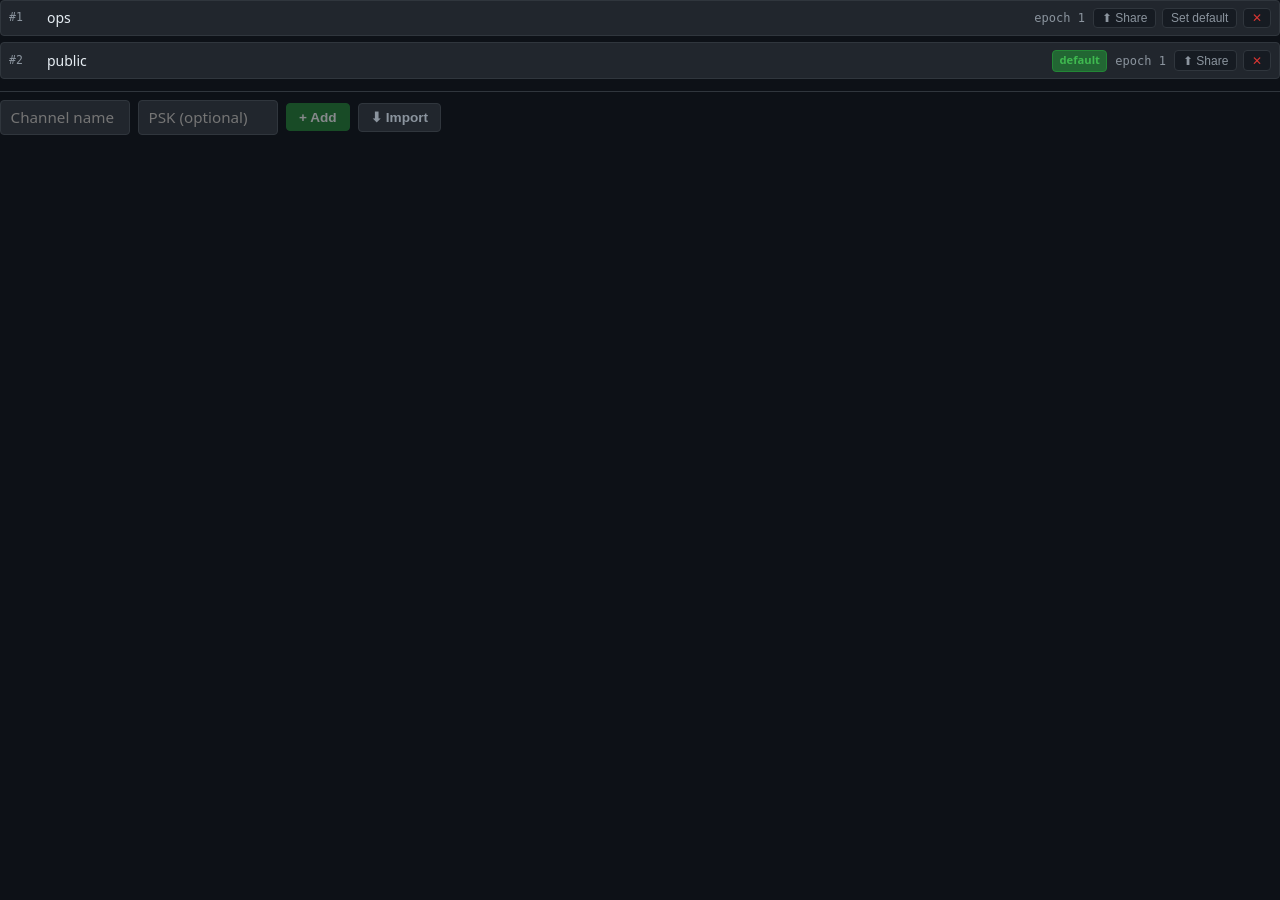
Test case: ChannelManager confirmations › does not remove channel when confirmation is cancelled
Click the button titled "Remove channel ops" in the row of "ops": click(1257, 18) [1243,8,1271,28]
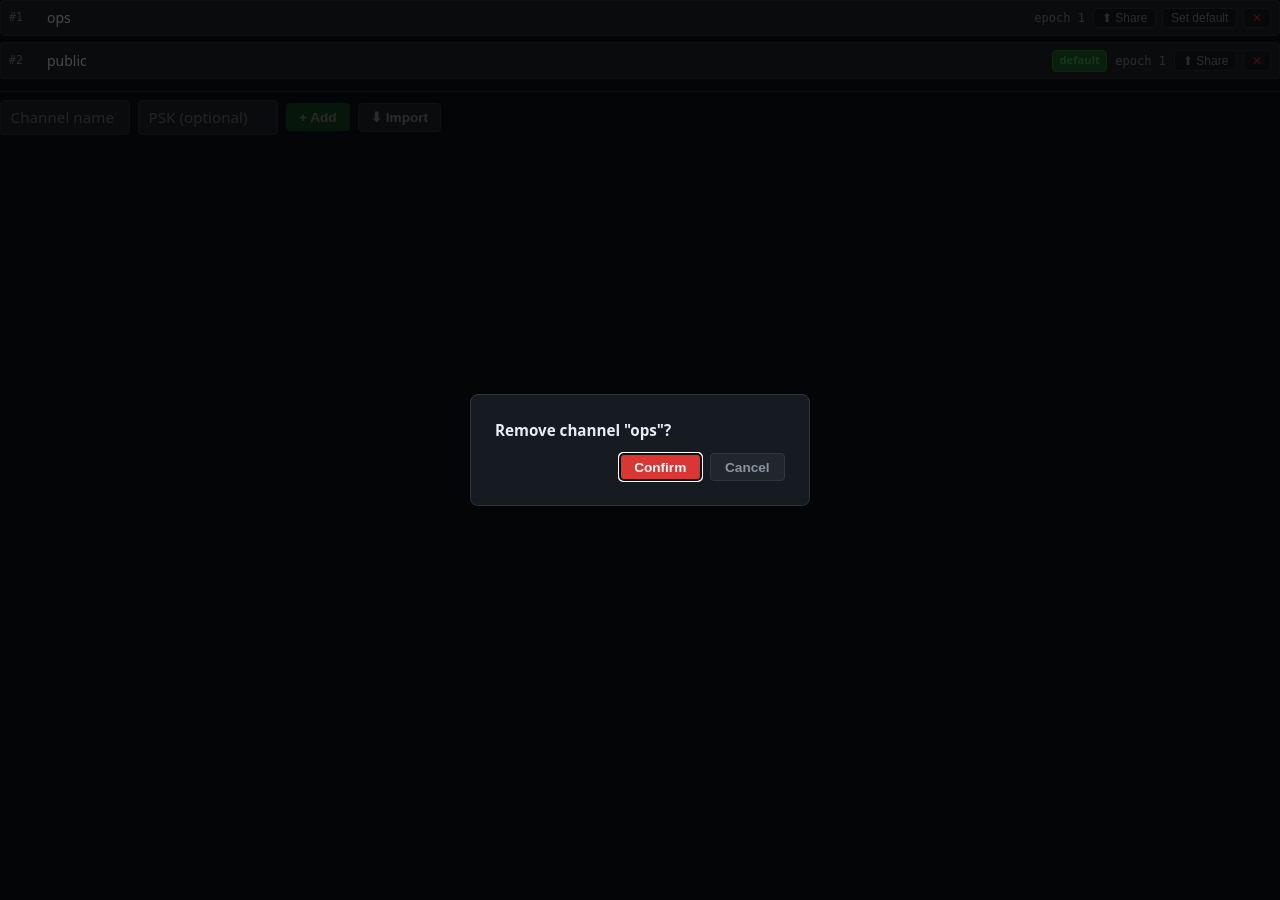
Expected: the text "Remove channel \"ops\"?" is shown, [495,420,671,440]
Click the button "Cancel": click(747, 467) [710,453,785,482]
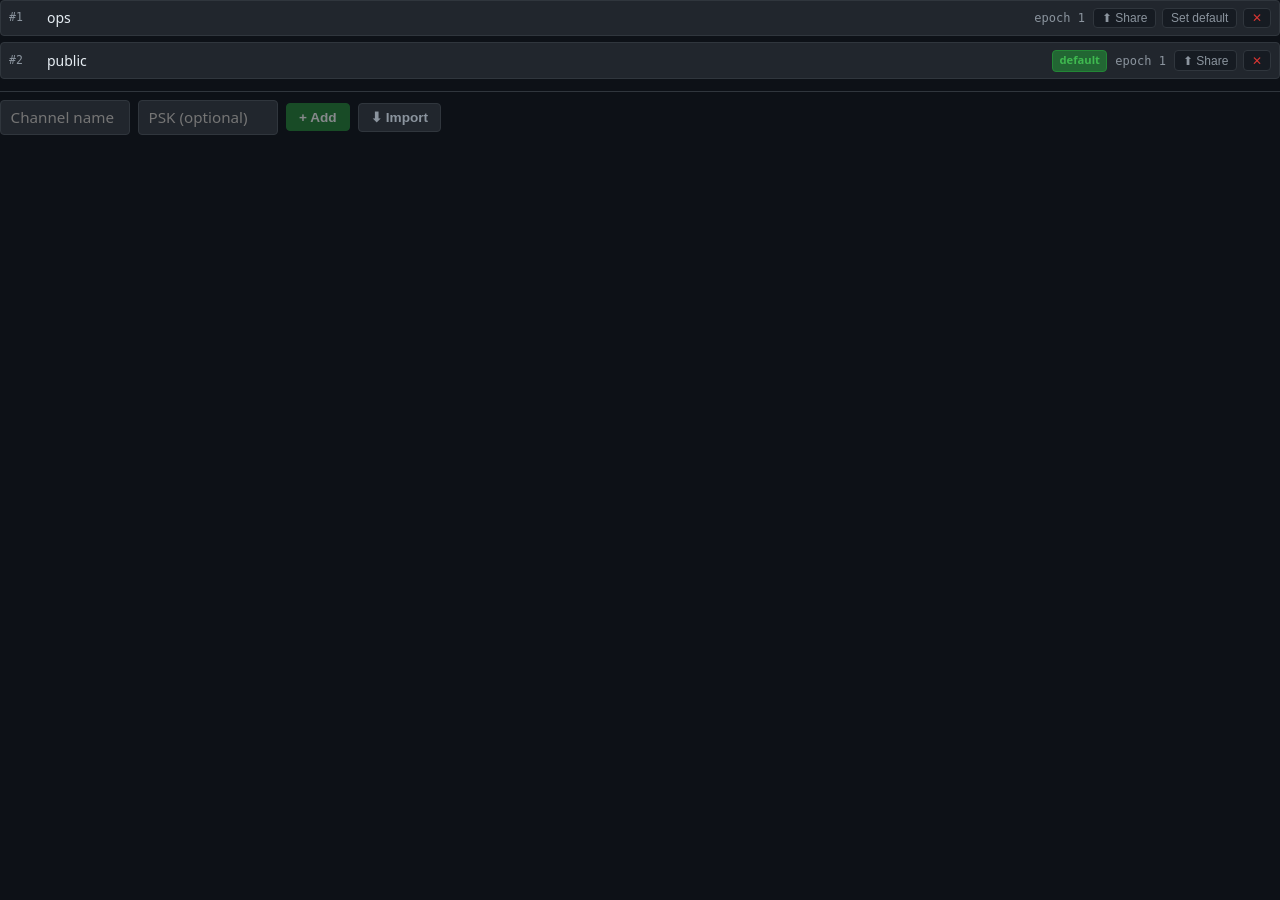
Expected: the text "Remove channel \"ops\"?" is gone
